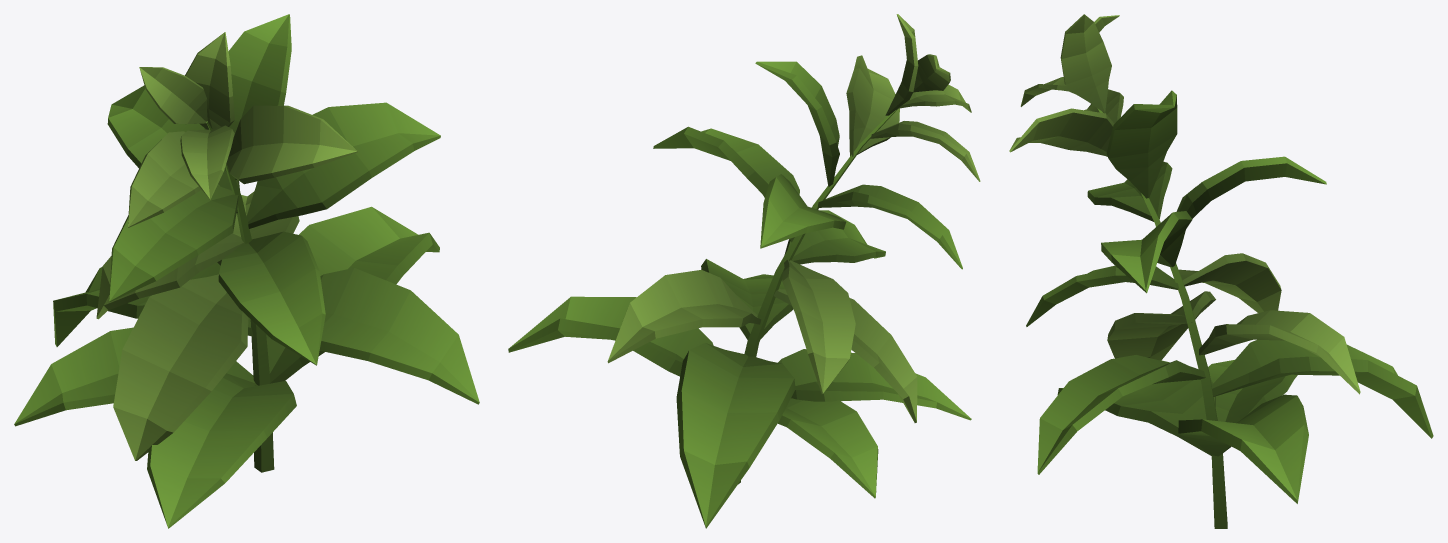
File: Cavern_ShrubTall-02.fbx
3 renders of one model, left to right at view 1: azimuth 30°, elevation 25°; view 2: azimuth 150°, elevation 25°; view 3: azimuth 270°, elevation 25°, orthographic. The views are drawn at different scales.
Visible parts, largest first — view 1: Cavern_ShrubTall-02; view 2: Cavern_ShrubTall-02; view 3: Cavern_ShrubTall-02.
Boxes of the visible parts, x1,y1,x2,y2 form: Cavern_ShrubTall-02: (14,14,479,528); Cavern_ShrubTall-02: (508,14,980,528); Cavern_ShrubTall-02: (1009,14,1433,528).
Size of the model in its own units: 102 by 118 by 98.26.
1 material, 1 textured.
